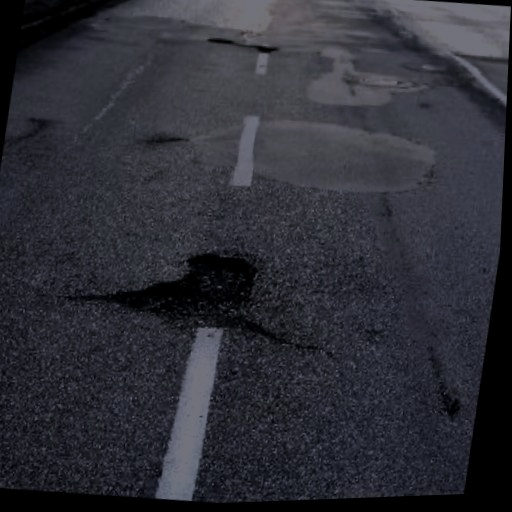pothole: (112, 238, 266, 337), (251, 38, 278, 55), (205, 33, 235, 45)
